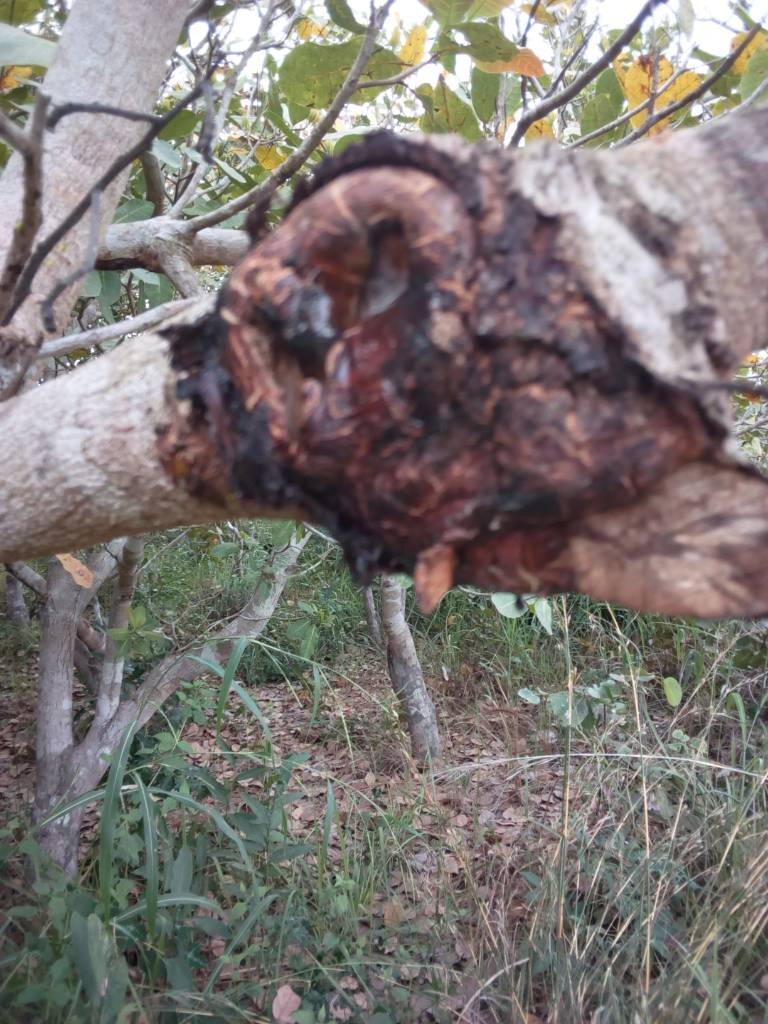ploceadorus ferrugineus: (118, 78, 727, 610)
